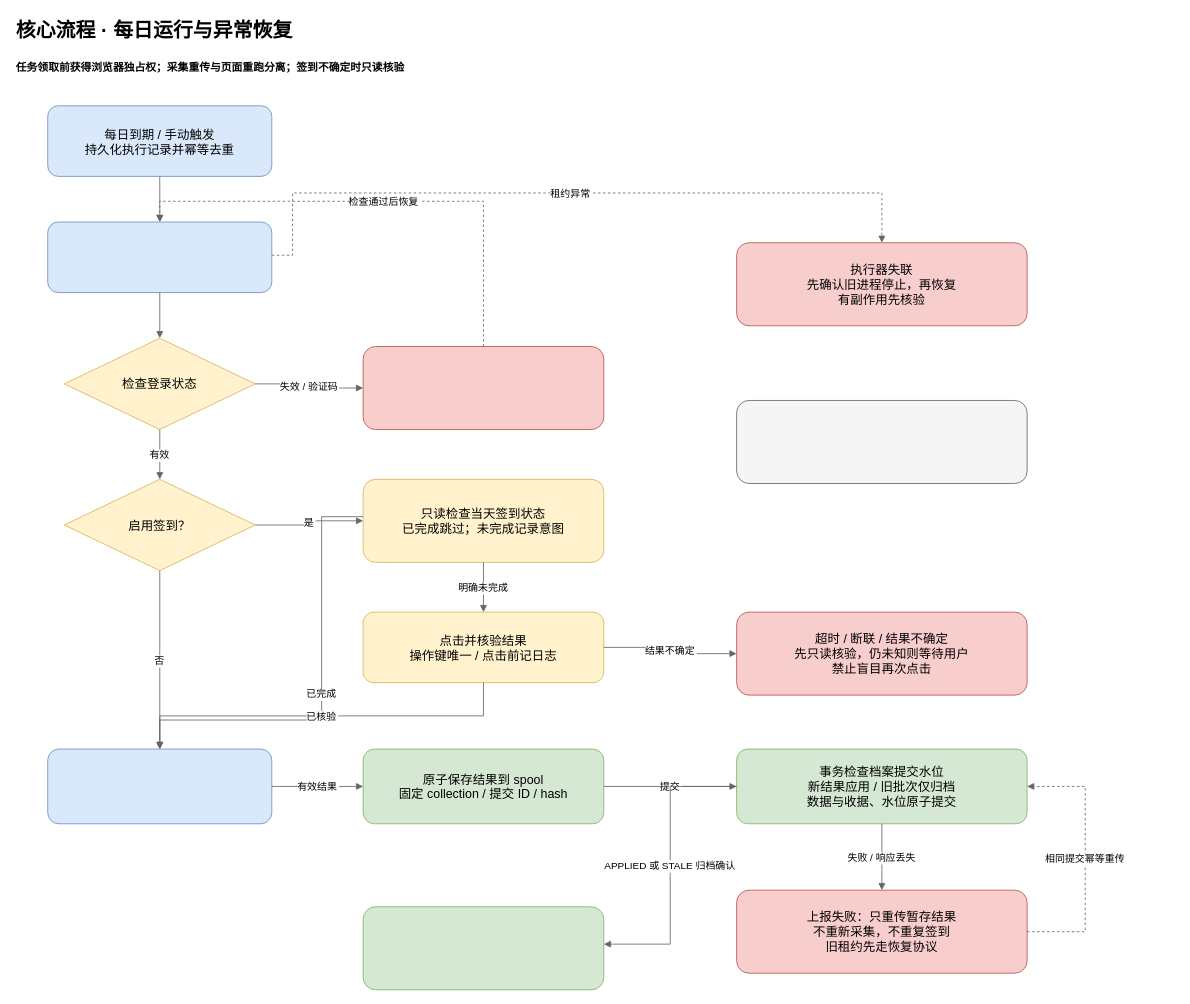
This 1190x1004 diagram has some shape labels left out. The centre of each missing label's shape, as x and y in pixels:
"只读错误：有限重试 页面改版：修插件 部分数据：不推断删除" goes at pixel 881 441.
"登记不可变 collection_seq 刷新页面后采集 / 校验完整性" goes at pixel 159 786.
"确认收据 → 清理 spool 记录终态 / 释放浏览器 后台投递 Web Push" goes at pixel 483 948.
"等待用户 暂停档案 → 人工登录 退出人工模式并重新检查" goes at pixel 483 388.
"领取任务 + 租约 确认非人工模式 / 锁定档案" goes at pixel 159 257.
